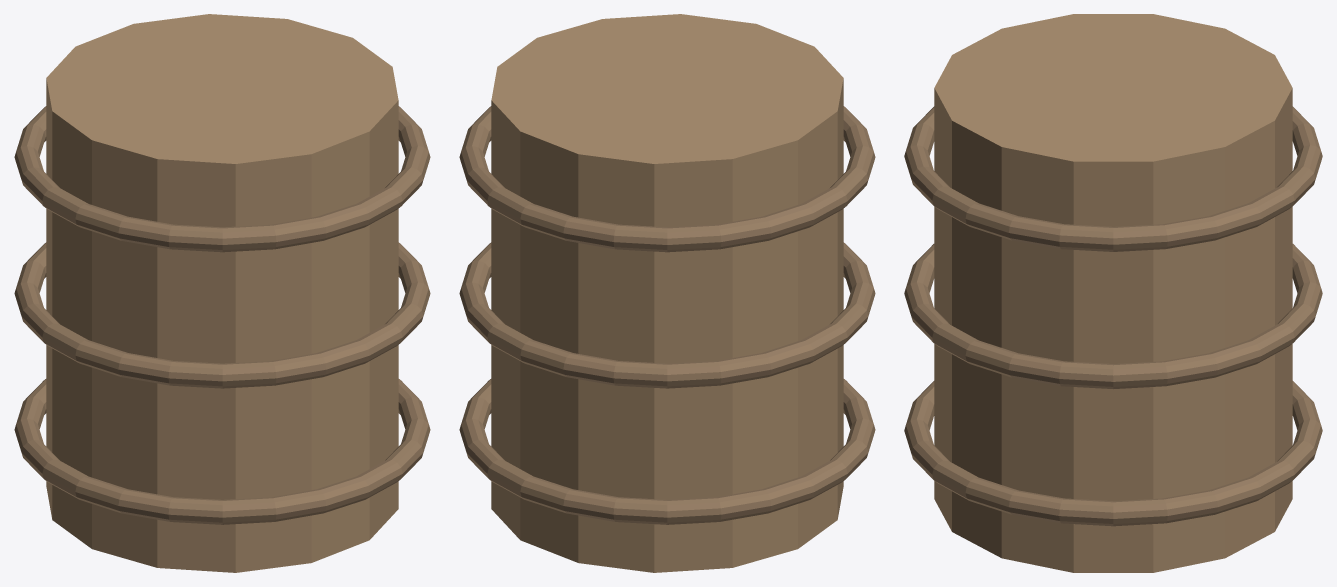
File: barrel.glb
The picture shows the model from 3 angles, left to right: view 1: azimuth 30°, elevation 25°; view 2: azimuth 150°, elevation 25°; view 3: azimuth 270°, elevation 25°; orthographic projection.
Parts seen in each view (by area): view 1: Barrel; view 2: Barrel; view 3: Barrel.
Boxes of the visible parts, <box> form: Barrel: <box>14,14,430,572</box>; Barrel: <box>459,14,875,572</box>; Barrel: <box>904,14,1322,572</box>.
Bounding box in the file's own units: 0.83 × 0.9 × 0.83.
